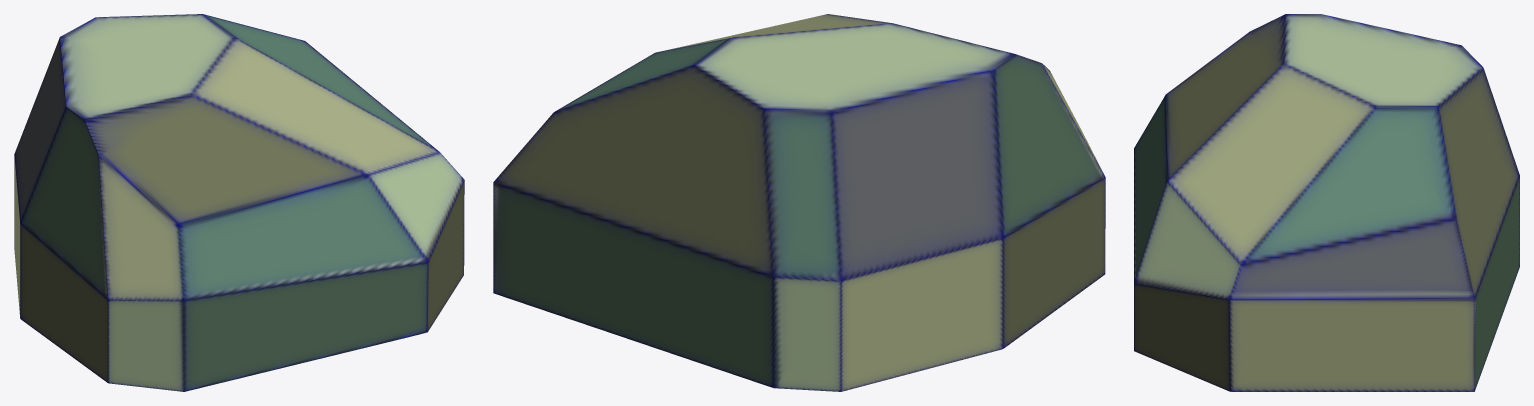
File: rock.fbx
The picture shows the model from 3 angles, left to right: view 1: azimuth 30°, elevation 25°; view 2: azimuth 150°, elevation 25°; view 3: azimuth 270°, elevation 25°; orthographic projection. The views are drawn at different scales.
Visible parts, largest first — view 1: Rock; view 2: Rock; view 3: Rock.
Boxes of the visible parts, x1=… form: Rock: x1=14, y1=14, x2=464, y2=391; Rock: x1=493, y1=14, x2=1105, y2=391; Rock: x1=1134, y1=14, x2=1519, y2=391.
Size of the model in its own units: 4.14 by 2.3 by 3.78.
1 material, 1 textured.
